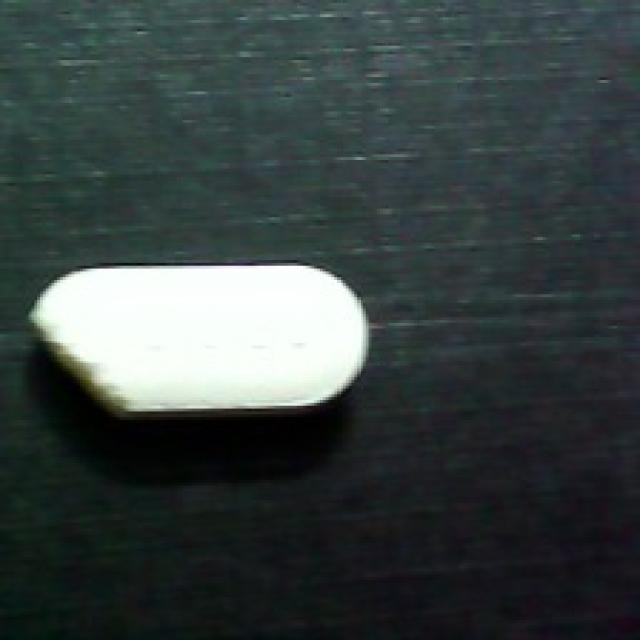defected: (26, 260, 374, 429)
